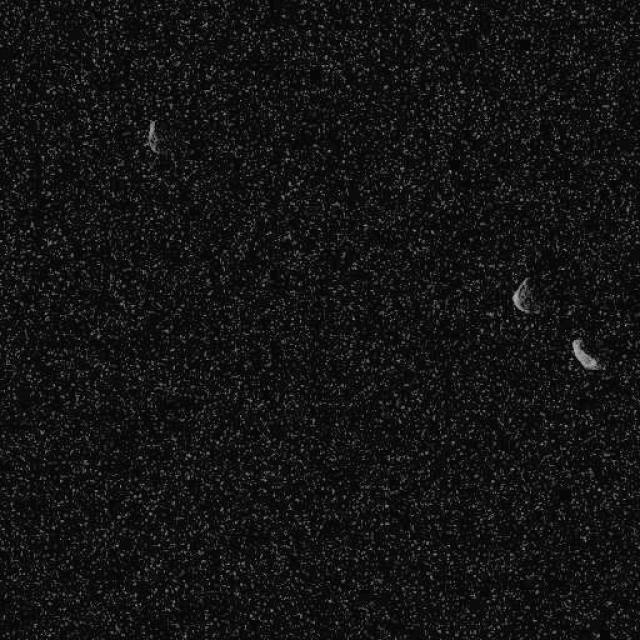D2: (510, 275, 539, 314), (570, 336, 601, 372), (144, 118, 160, 154)
